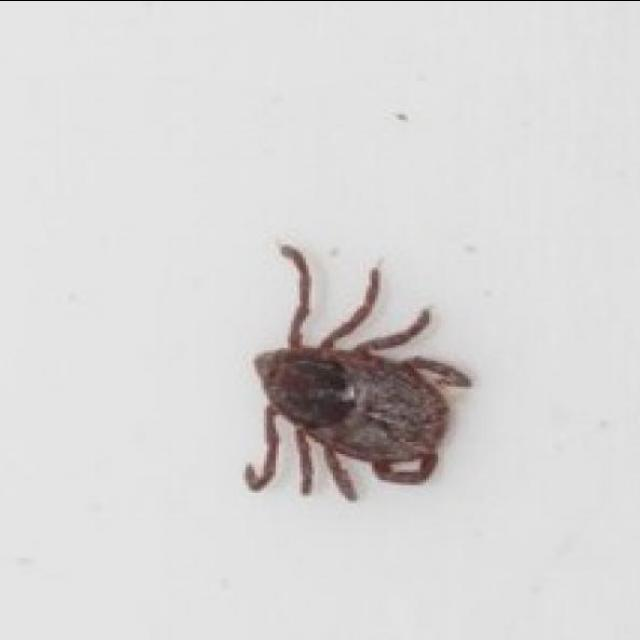Rhipicephalus Sanguineus-F: (243, 243, 474, 500)
